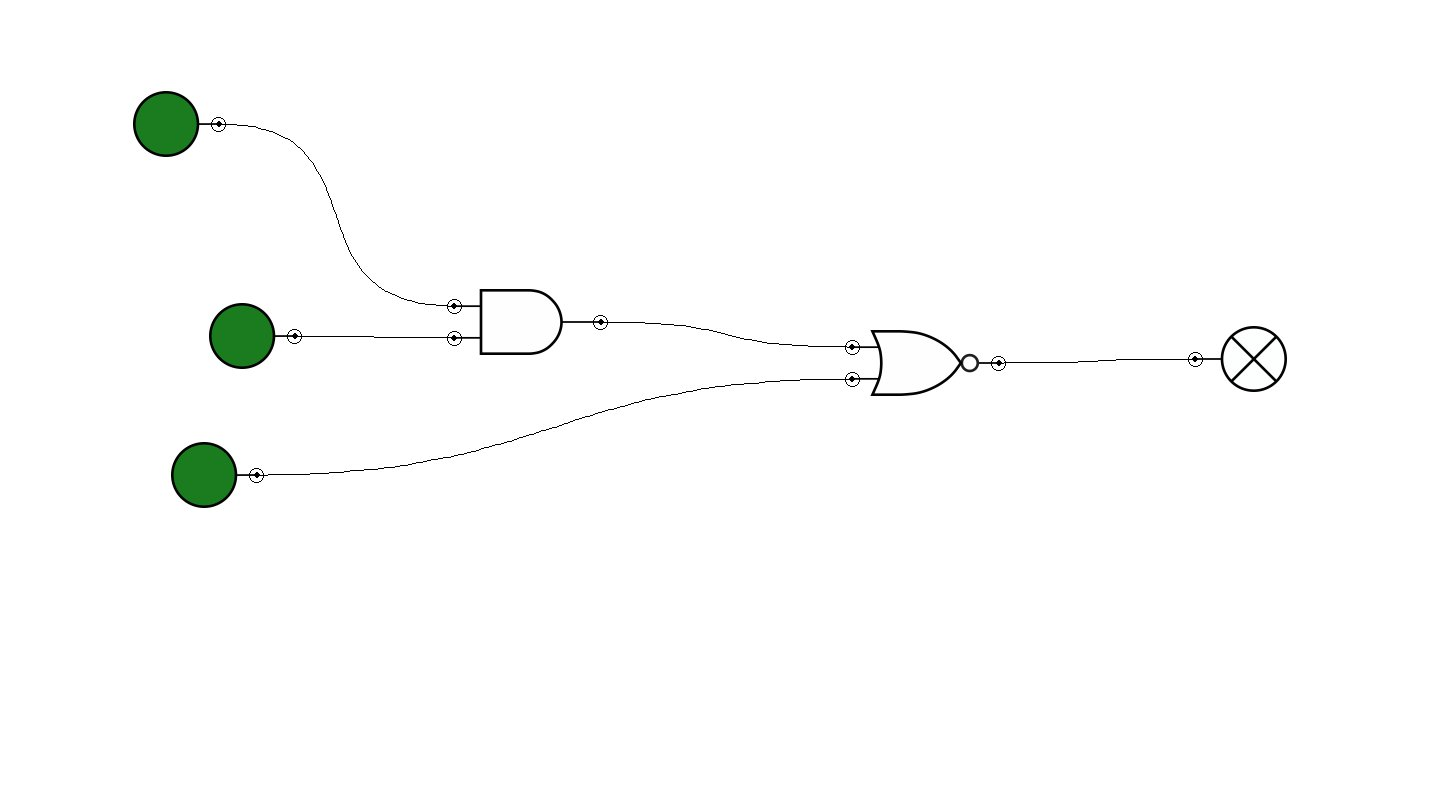and: (447, 289, 608, 355)
bulb: (1188, 326, 1287, 392)
nor: (845, 330, 1006, 396)
switch_True: (133, 91, 226, 157), (209, 303, 302, 369), (171, 442, 264, 508)
